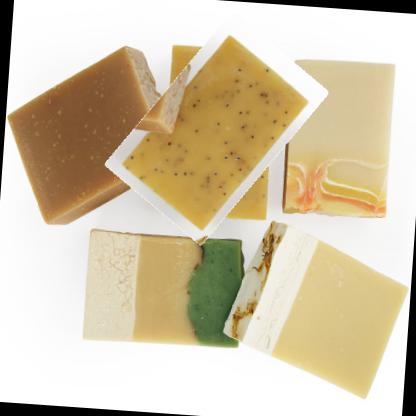soap: (124, 14, 311, 243)
